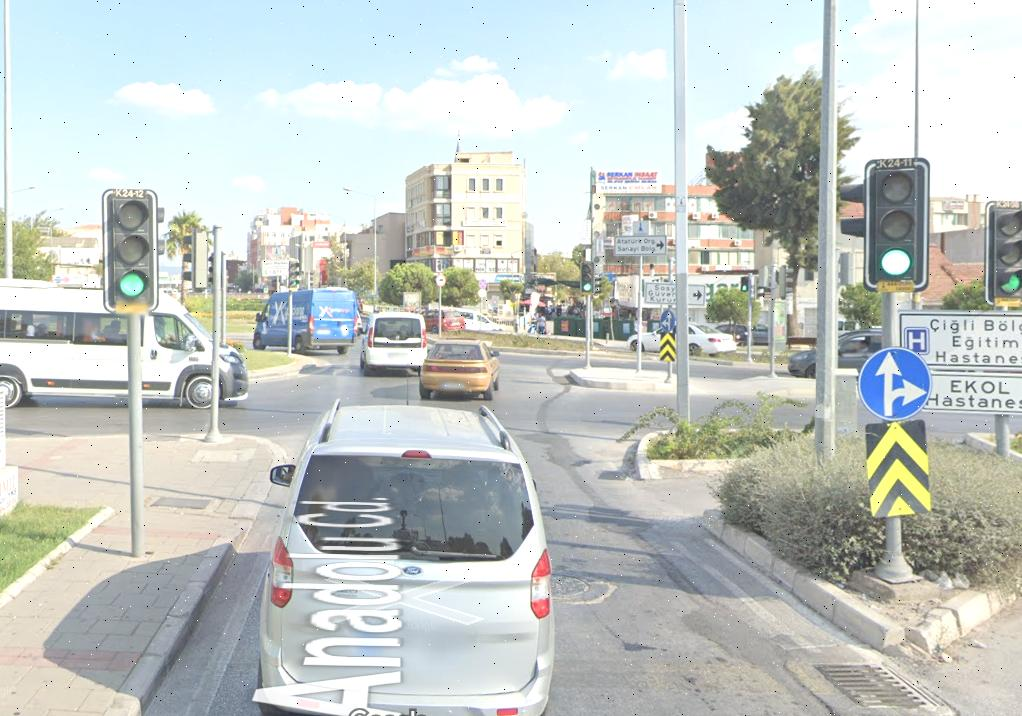greenlight: (868, 157, 928, 285), (101, 184, 157, 309), (989, 196, 1021, 305), (580, 259, 594, 295), (287, 257, 301, 290)
